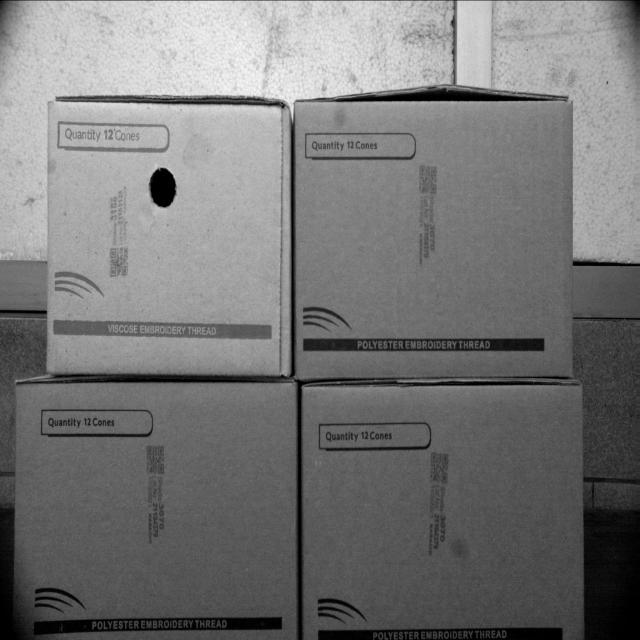box: (298, 102, 574, 376), (13, 383, 297, 639), (300, 386, 586, 639), (48, 102, 288, 370)
